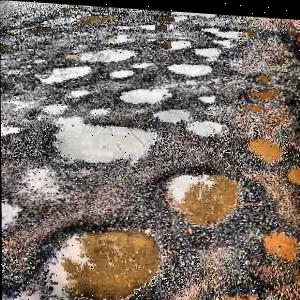pothole: (33, 216, 165, 300), (45, 114, 162, 169), (162, 162, 241, 226), (193, 273, 292, 300), (253, 216, 300, 260), (65, 40, 139, 64), (36, 60, 94, 84), (243, 129, 285, 161), (198, 20, 252, 44), (116, 80, 174, 102), (184, 115, 230, 137), (165, 56, 211, 74), (1, 197, 26, 230), (151, 103, 192, 121), (156, 34, 196, 48), (193, 42, 223, 55), (108, 66, 133, 78), (285, 160, 300, 179), (197, 89, 217, 101)
